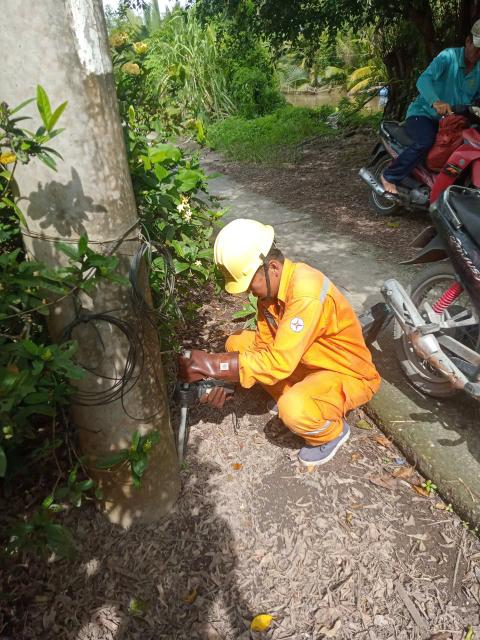gloves: (168, 341, 263, 377), (196, 380, 236, 413)
helmet: (200, 206, 286, 297)
shoes: (292, 419, 353, 466)
